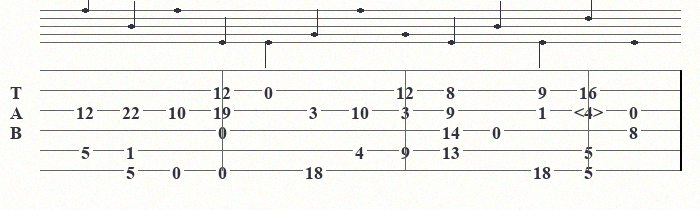0: (172, 162, 185, 178), (218, 162, 231, 178), (218, 122, 231, 138), (264, 82, 277, 98), (492, 122, 505, 138), (629, 102, 642, 118)
1: (126, 142, 139, 158), (538, 102, 551, 118)
10: (168, 102, 190, 118), (351, 102, 373, 118)
12: (76, 102, 98, 118), (213, 82, 235, 98), (396, 82, 418, 98)
13: (442, 142, 464, 158)
14: (442, 122, 464, 138)
16: (579, 82, 601, 98)
18: (305, 162, 327, 178), (533, 162, 555, 178)
19: (213, 102, 235, 118)
22: (122, 102, 144, 118)
3: (309, 102, 322, 118), (401, 102, 414, 118)
4: (355, 142, 368, 158)
5: (81, 142, 94, 158), (126, 162, 139, 178), (584, 162, 597, 178), (584, 142, 597, 158)
8: (446, 82, 459, 98), (629, 122, 642, 138)
9: (401, 142, 414, 158), (446, 102, 459, 118), (538, 82, 551, 98)
harmonic: (574, 102, 607, 118)
